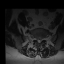CCS_stenosis: (38, 36, 40, 44)
LFS_normal: (42, 36, 44, 42)
LLS_normal: (40, 36, 42, 43)
RFS_normal: (34, 35, 36, 42)
RLS_normal: (36, 36, 38, 43)
